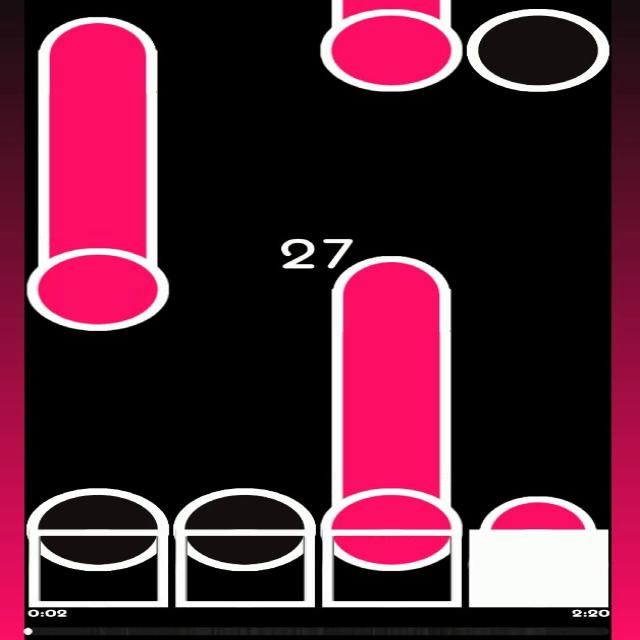end_hold: (326, 246, 459, 296), (30, 13, 164, 56), (474, 491, 600, 530)
note: (469, 9, 610, 94), (172, 488, 314, 570), (26, 488, 166, 570)
start_hold: (29, 223, 169, 330), (321, 468, 462, 571), (321, 0, 462, 91)
